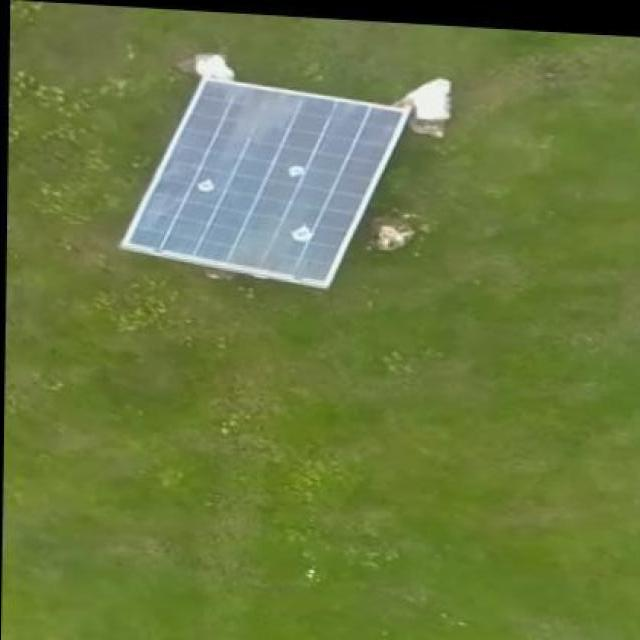soiled: (116, 83, 414, 290)
